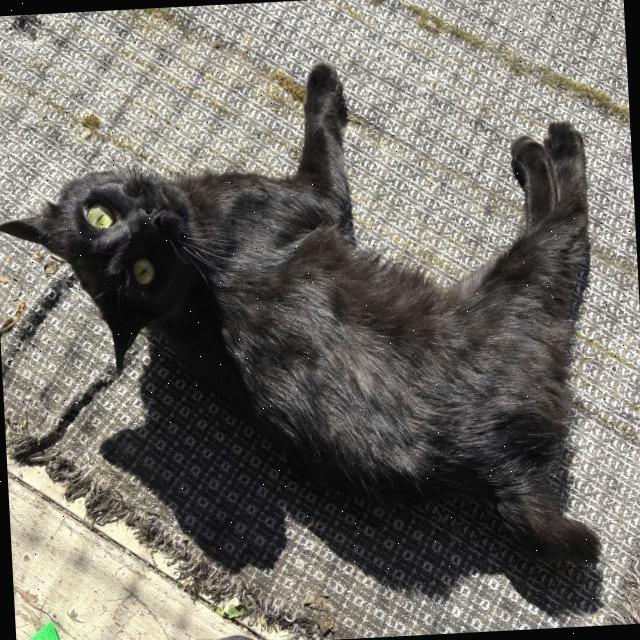manx_cat: (0, 129, 243, 398)
